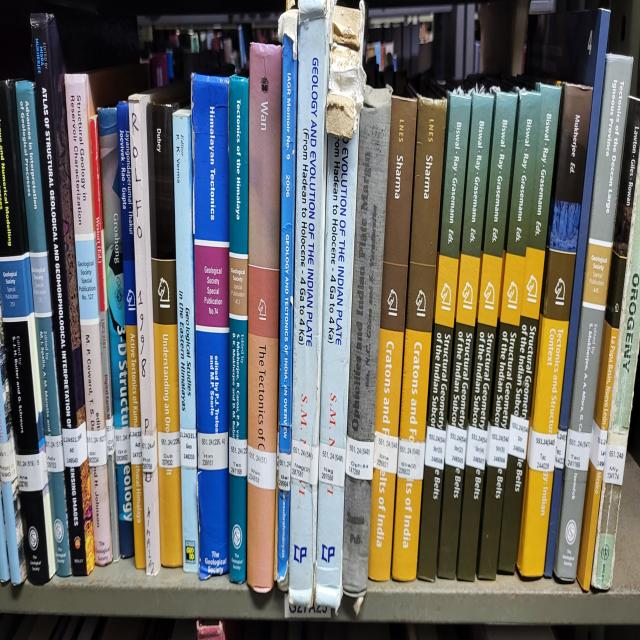Book: (555, 54, 632, 582), (518, 84, 592, 576), (31, 14, 95, 576), (529, 8, 610, 433), (478, 89, 541, 579), (579, 97, 640, 587), (458, 92, 518, 582), (0, 81, 55, 584), (438, 92, 494, 579), (16, 81, 71, 576), (391, 97, 446, 582), (418, 92, 471, 582), (342, 87, 391, 606), (289, 0, 330, 609), (369, 95, 418, 582), (65, 76, 112, 565), (591, 149, 640, 590), (315, 130, 359, 611), (191, 73, 230, 579), (248, 43, 282, 593), (146, 100, 182, 565), (98, 108, 135, 557), (129, 92, 161, 576), (498, 246, 545, 574), (116, 100, 146, 568), (90, 116, 120, 563), (276, 14, 298, 590), (172, 108, 199, 574), (229, 76, 249, 584), (538, 87, 561, 184)
Label: (16, 449, 48, 492), (345, 436, 374, 482), (291, 438, 319, 484), (198, 430, 229, 471), (248, 446, 276, 490), (528, 427, 556, 471), (62, 422, 88, 468), (319, 444, 346, 487), (398, 438, 425, 479), (374, 430, 399, 473), (565, 430, 591, 471), (465, 425, 488, 471), (445, 425, 468, 468), (486, 425, 509, 468), (425, 425, 446, 471), (590, 419, 608, 471), (509, 414, 529, 460), (604, 444, 626, 484), (158, 430, 181, 468), (86, 427, 106, 468), (180, 427, 198, 468), (229, 438, 248, 476), (45, 436, 64, 473), (114, 425, 131, 465), (141, 433, 158, 473), (555, 430, 568, 471), (130, 427, 142, 465), (279, 452, 291, 490), (106, 417, 115, 457)
